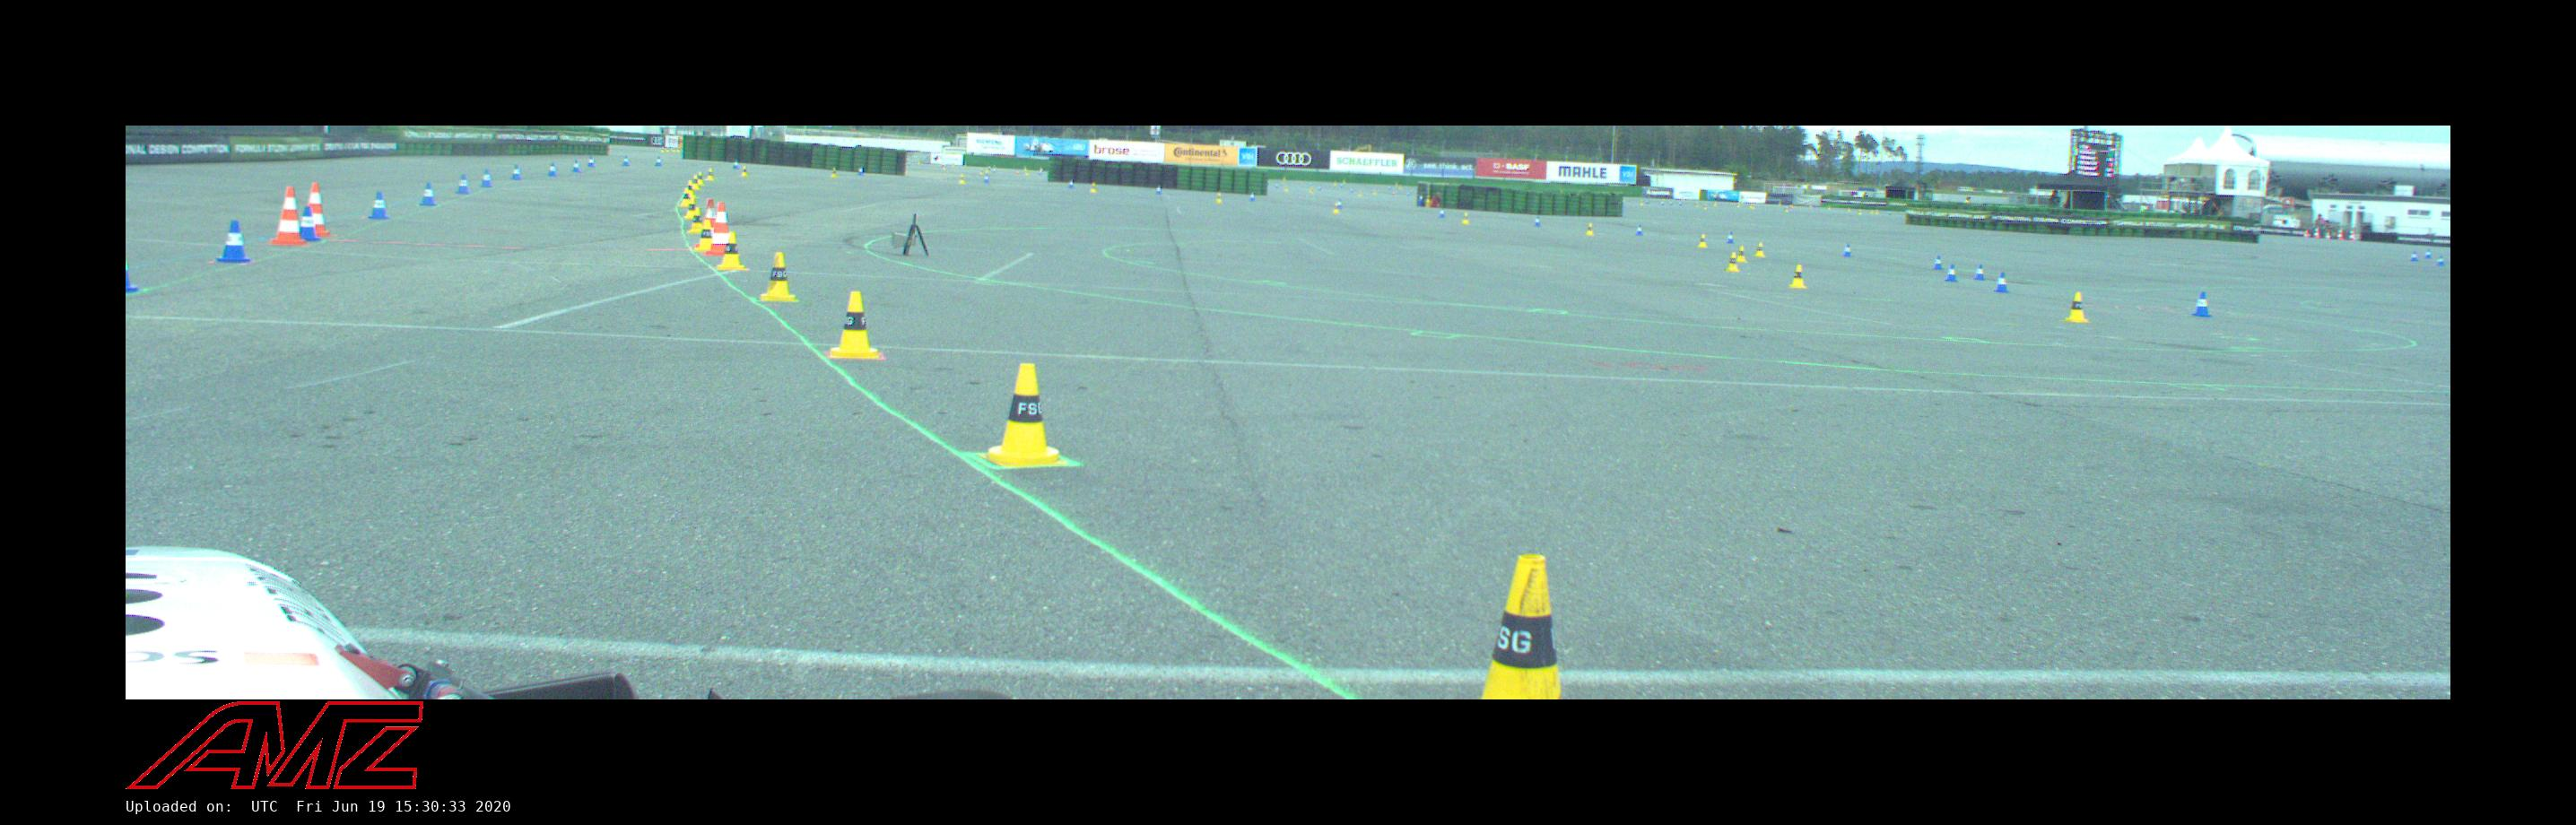blue_cone: (215, 220, 253, 261), (300, 206, 322, 241), (369, 191, 391, 219), (2191, 291, 2214, 317), (419, 183, 439, 206), (1992, 271, 2011, 293), (454, 173, 471, 194), (1945, 264, 1960, 282), (481, 169, 494, 187), (1973, 265, 1987, 281), (509, 165, 523, 180), (1932, 255, 1945, 269), (546, 163, 559, 177), (571, 159, 583, 173), (1842, 243, 1852, 256), (1726, 230, 1736, 244), (586, 155, 596, 167), (621, 155, 631, 166), (1634, 224, 1644, 236), (2424, 248, 2433, 259), (1533, 215, 1542, 227), (1437, 208, 1447, 218), (2409, 251, 2419, 261), (2436, 255, 2445, 265), (732, 159, 740, 169), (653, 157, 660, 166)
large_orange_cone: (270, 187, 308, 245), (309, 183, 334, 237), (705, 202, 727, 256), (693, 199, 715, 248)
yellow_cone: (1482, 554, 1562, 699), (979, 363, 1067, 467), (830, 291, 881, 359), (760, 253, 797, 300), (717, 232, 750, 270), (2064, 292, 2090, 322), (693, 219, 711, 251), (1788, 264, 1808, 288), (687, 206, 702, 233), (1724, 252, 1740, 272), (683, 199, 696, 219), (679, 188, 691, 207), (685, 182, 698, 198), (1754, 242, 1766, 257), (1696, 233, 1709, 247), (1738, 246, 1748, 262), (1584, 222, 1596, 236), (705, 168, 716, 180), (1460, 213, 1471, 224), (692, 175, 701, 189), (830, 167, 840, 178), (740, 165, 749, 177), (1331, 202, 1340, 213), (698, 171, 704, 185)
